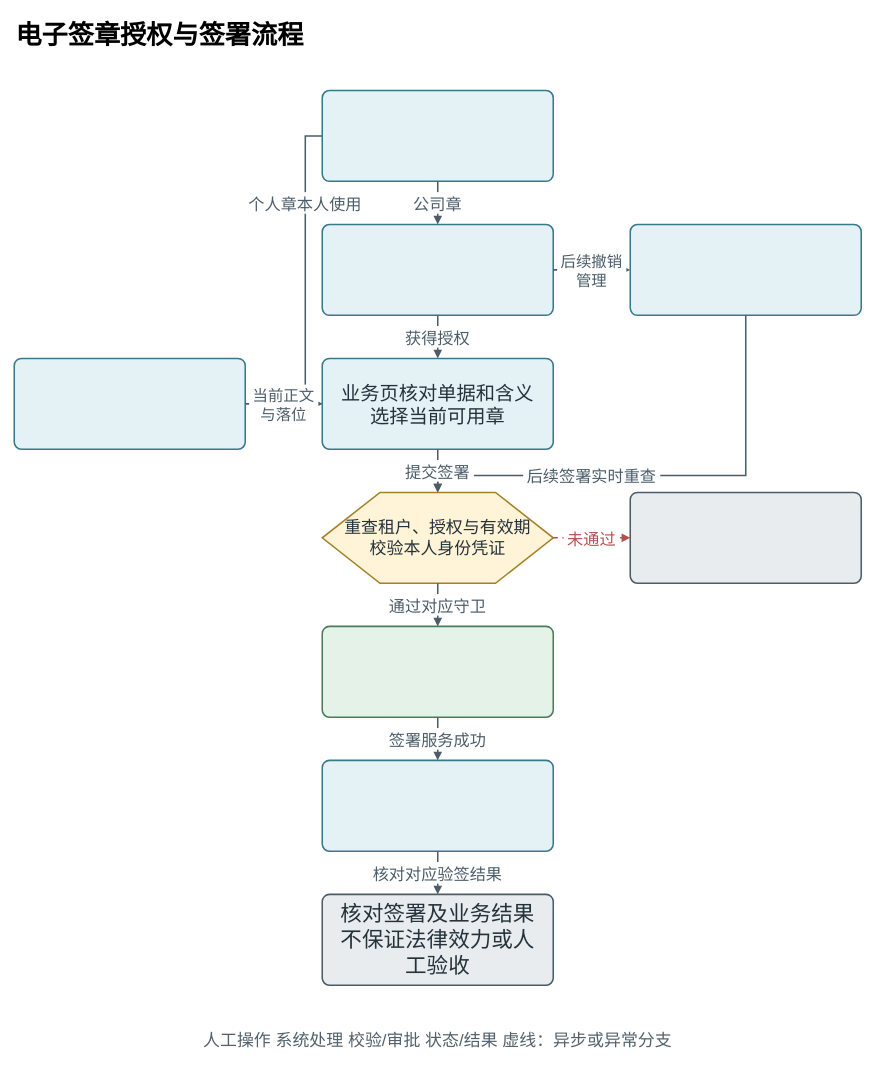
Some shapes in this 875 by 1068 pixel diagram are drawn without their labels. Each missing label, with the centre of its shape:
"业务留痕或P2文档签署 成功后追加签名台账" belongs at pixel 437 671.
"停用或删除授权 同时核对其他有效授权" belongs at pixel 745 269.
"公司章授权用户或部门 限定场景和有效窗口" belongs at pixel 437 269.
"印章管理建章并核对 有效期 草稿核准后启用" belongs at pixel 437 135.
"只读审计及链验签 含PDF另按签名ID文 档验签" belongs at pixel 437 805.
"合同详情上传当前PDF P2落位签署为独立范围" belongs at pixel 129 403.
"失效、越权或密码错误 拒签，不降级为成功" belongs at pixel 745 537.
